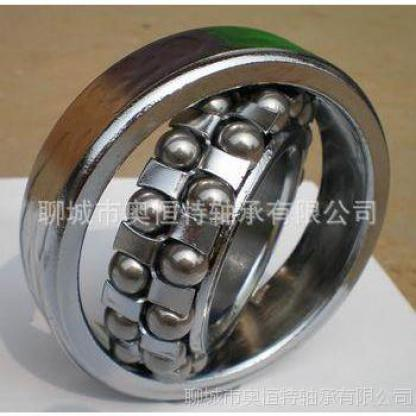FOD: (19, 18, 396, 406)
